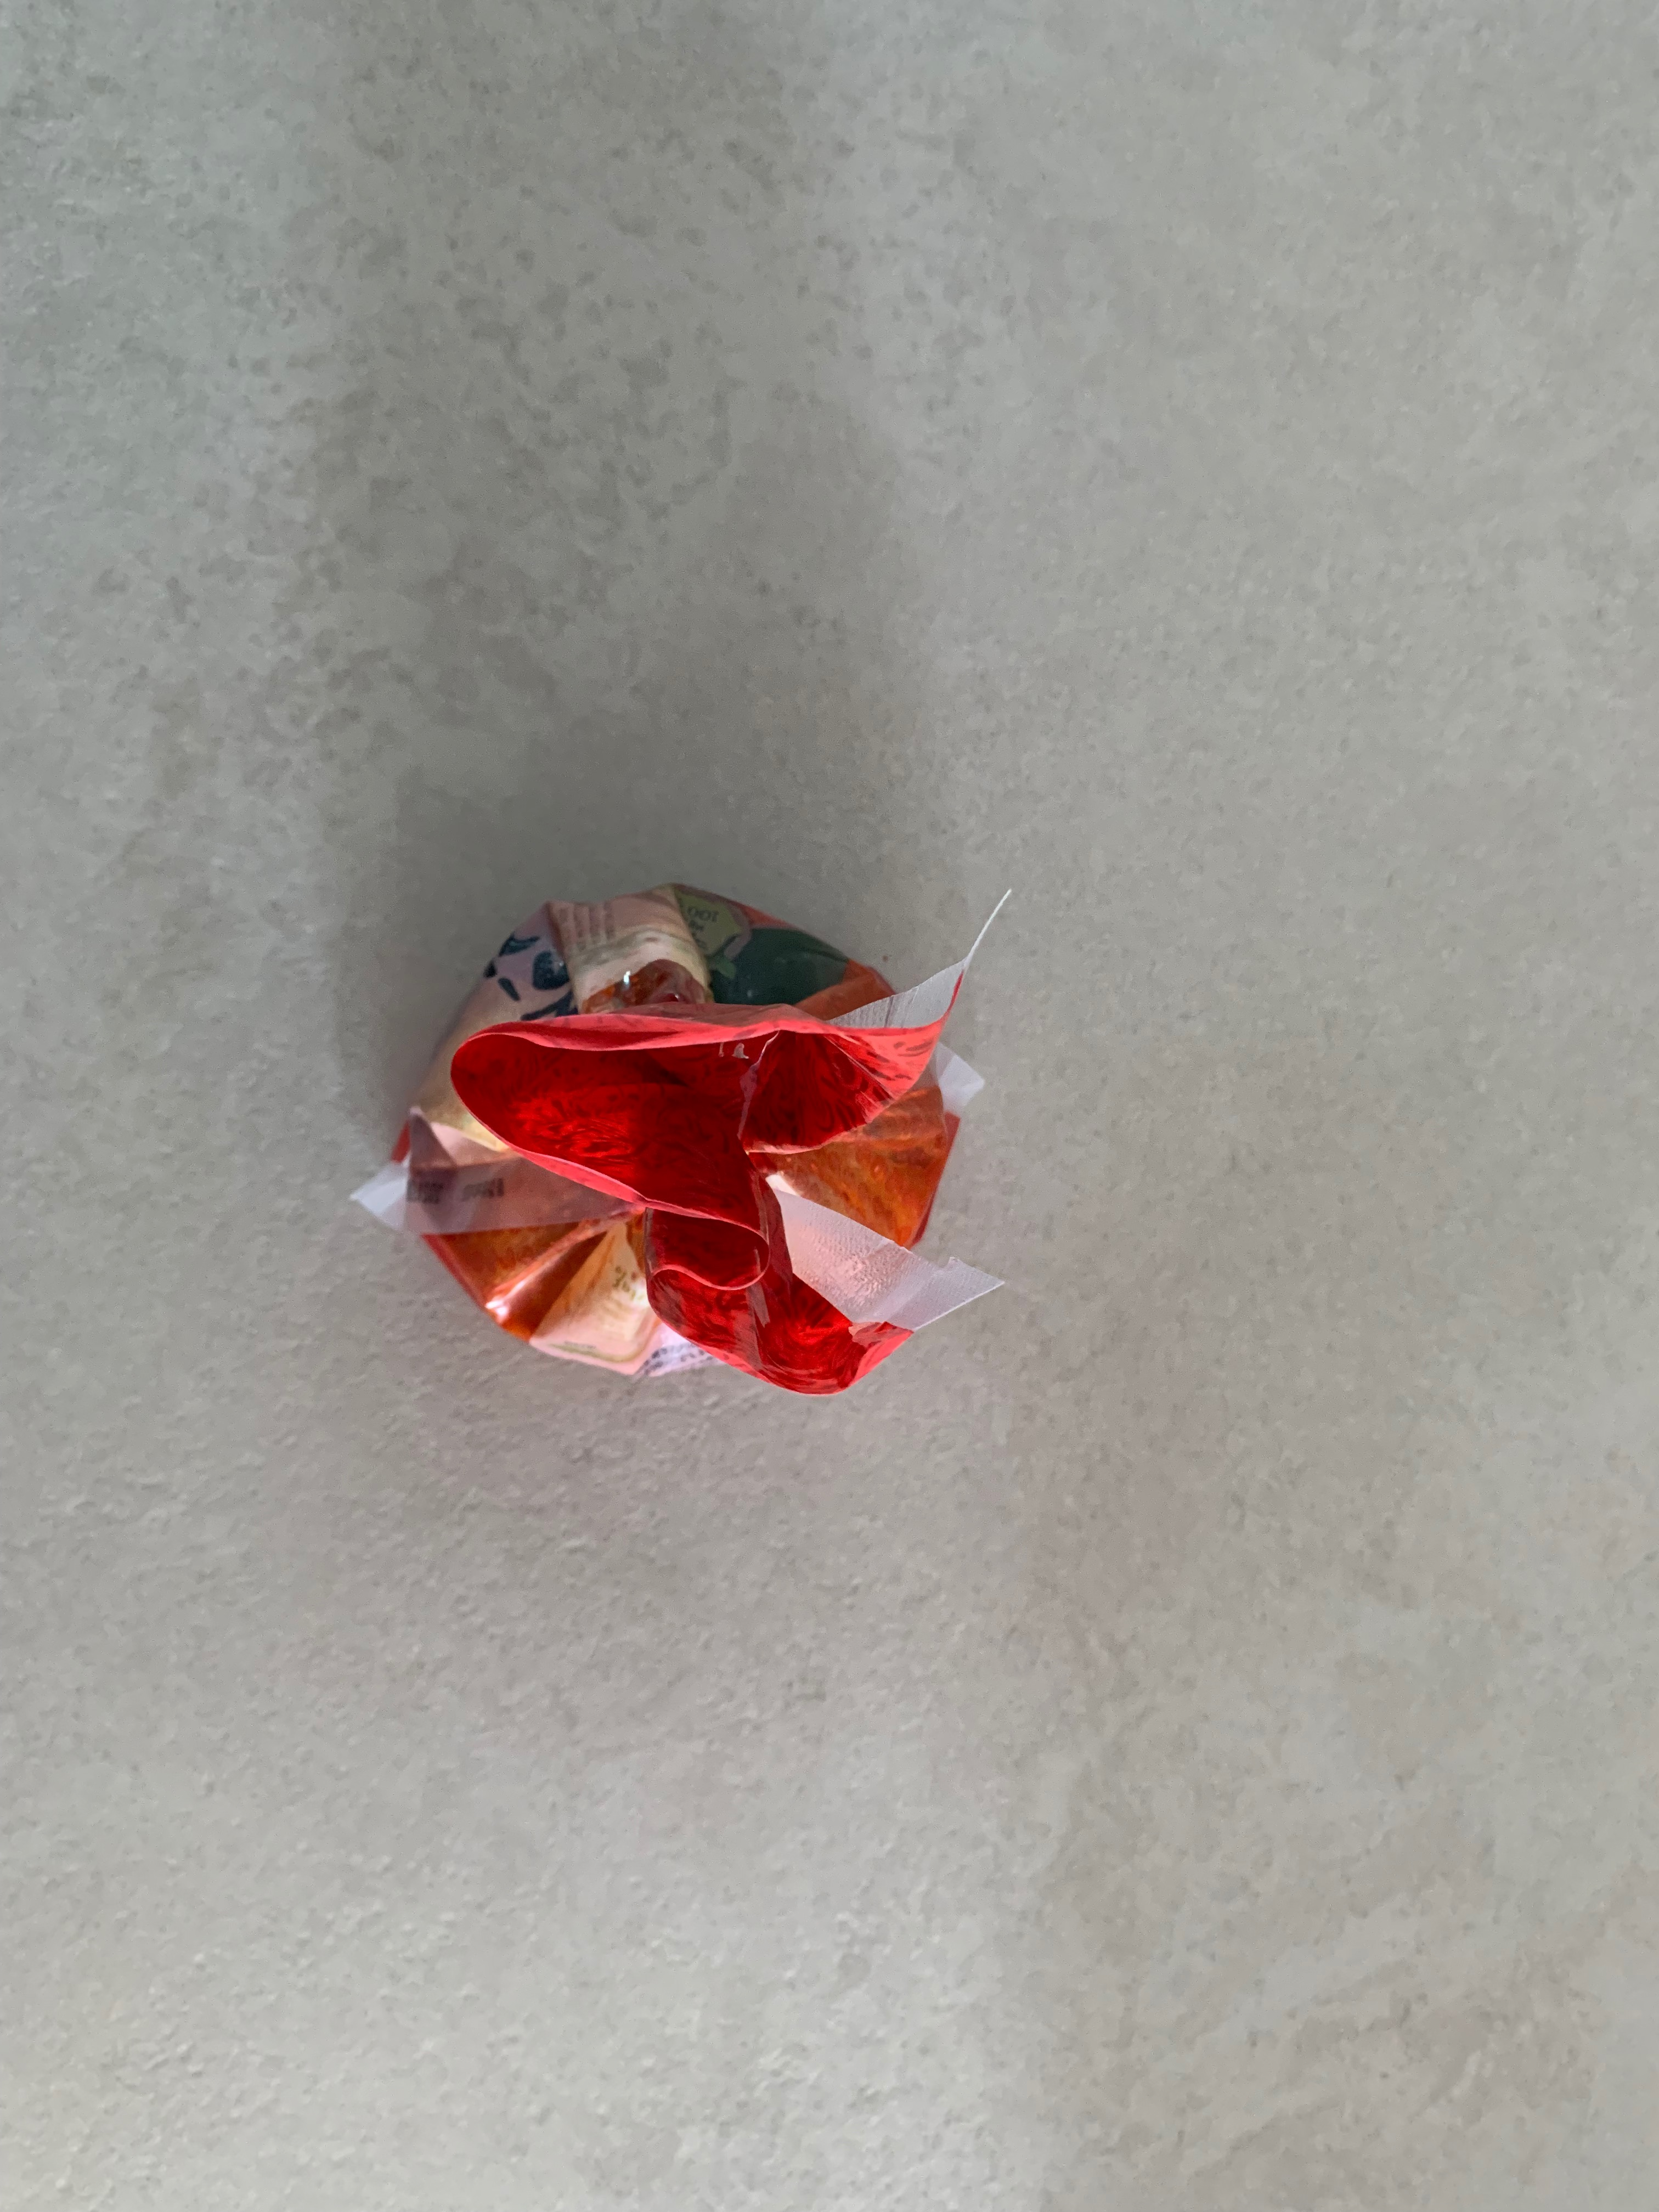kimchi: (389, 881, 962, 1392)
